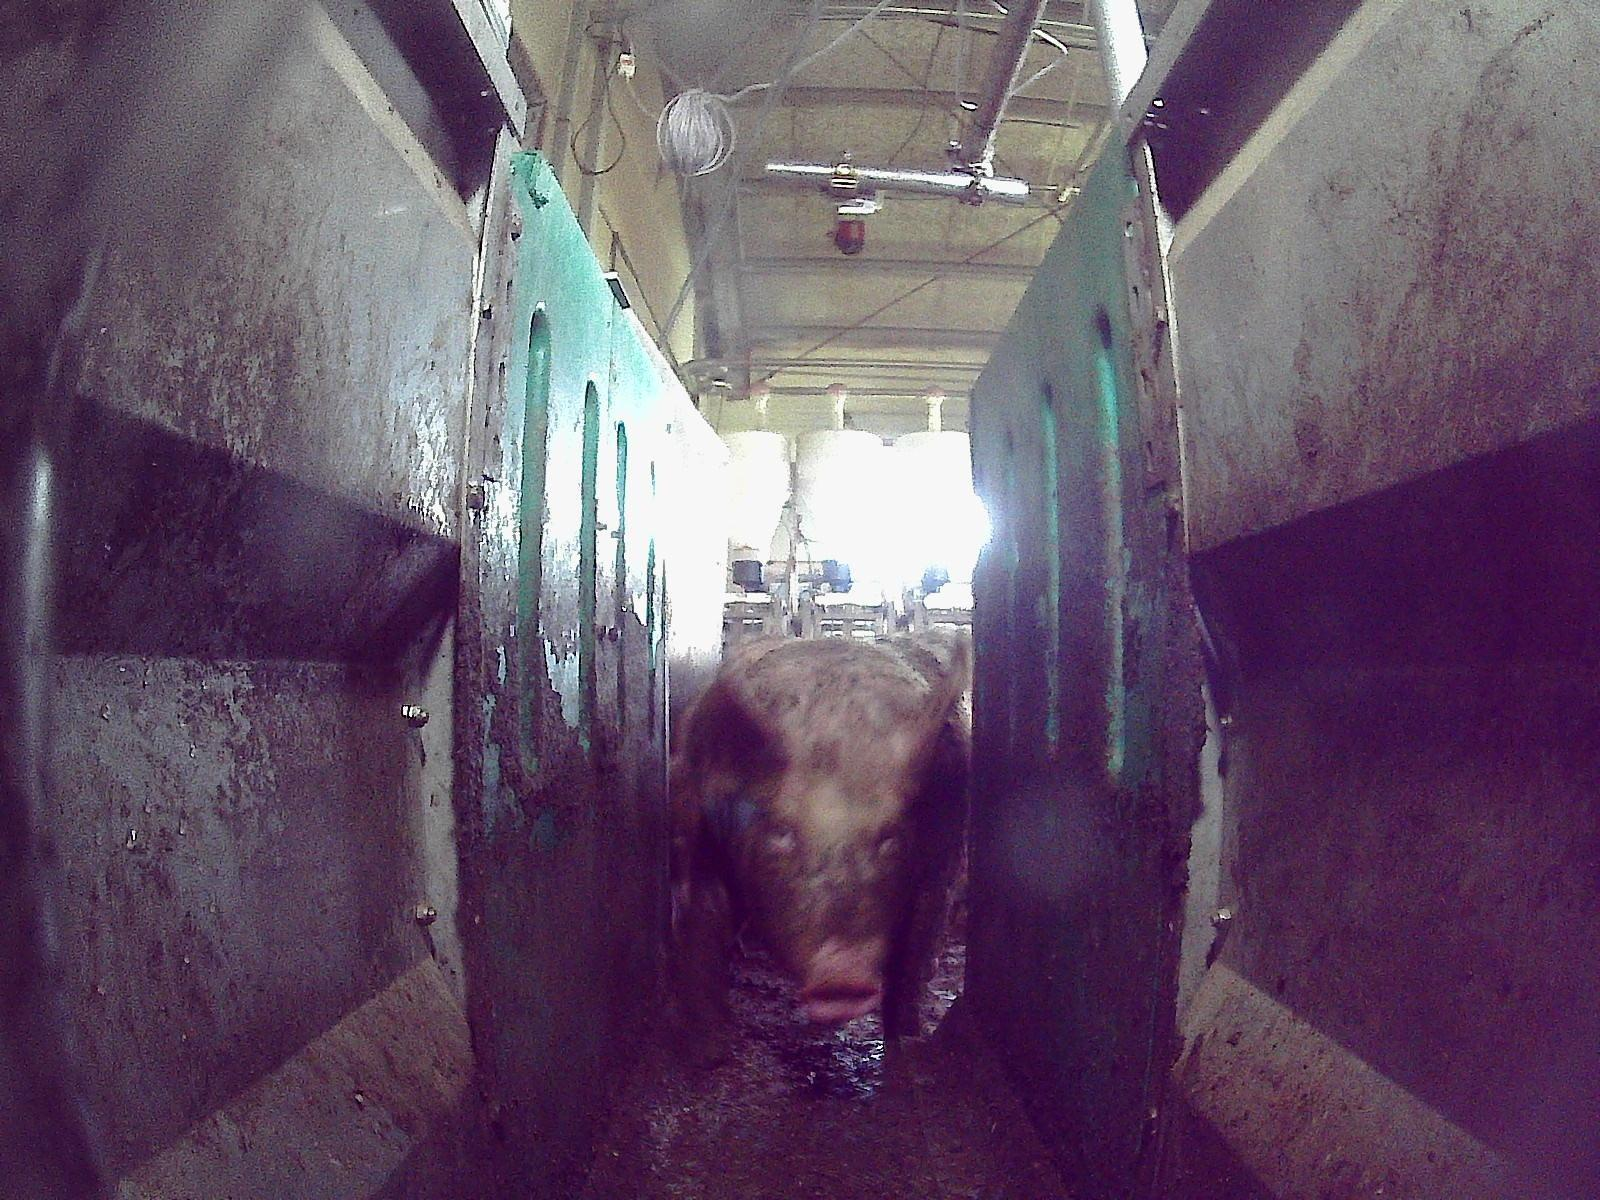Face: (732, 733, 910, 1019)
